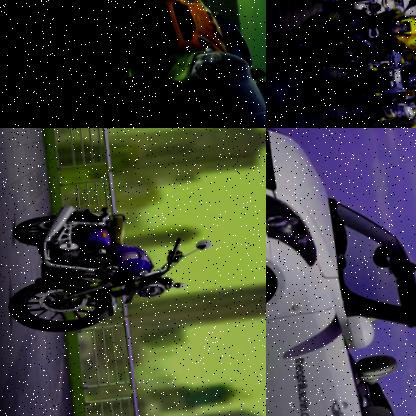bike: (0, 191, 212, 340), (266, 0, 414, 85), (322, 65, 416, 114), (291, 107, 416, 128)
car: (266, 128, 416, 416), (98, 35, 266, 128), (147, 0, 248, 58)
